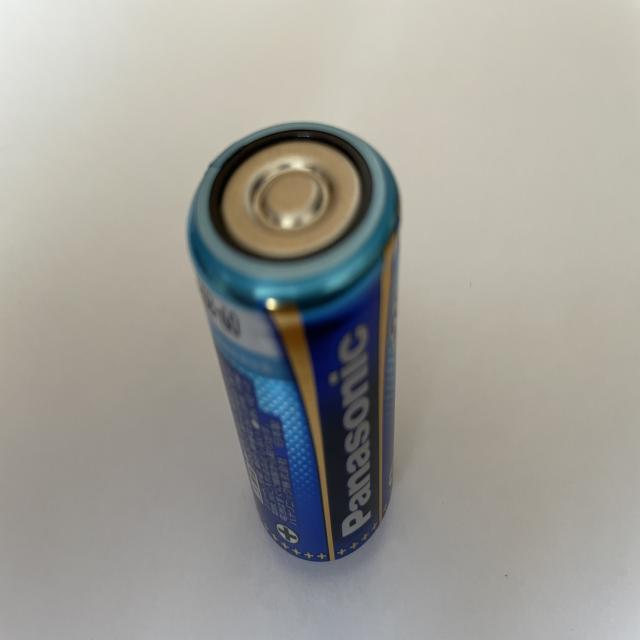hazardous waste: (185, 119, 404, 560)
